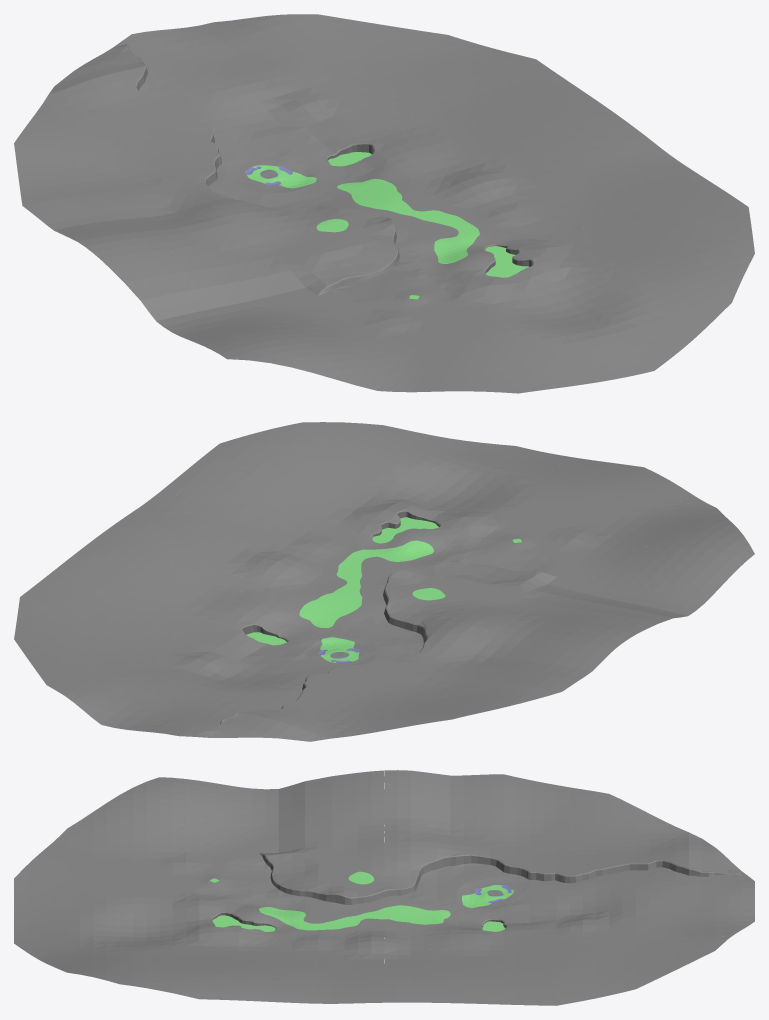
The model's file is glf_course_fc8.kcl.glb.
The picture shows the model from 3 angles, top to bottom: view 1: azimuth 30°, elevation 25°; view 2: azimuth 150°, elevation 25°; view 3: azimuth 270°, elevation 25°; orthographic projection. The views are drawn at different scales.
Visible parts, largest first — view 1: collision_0x0004, collision_0x0002, collision_0x0001, collision_0x000c, collision_0x0007; view 2: collision_0x0004, collision_0x0002, collision_0x0001, collision_0x000c, collision_0x0007; view 3: collision_0x0004, collision_0x0002, collision_0x000c, collision_0x0001, collision_0x0007.
Boxes of the visible parts, bbox=[...] form: collision_0x0004: bbox=[14, 14, 754, 393]; collision_0x0002: bbox=[225, 158, 512, 315]; collision_0x0001: bbox=[247, 165, 479, 299]; collision_0x000c: bbox=[126, 44, 533, 295]; collision_0x0007: bbox=[328, 152, 529, 277]; collision_0x0004: bbox=[14, 422, 754, 741]; collision_0x0002: bbox=[275, 525, 557, 667]; collision_0x0001: bbox=[299, 538, 521, 662]; collision_0x000c: bbox=[197, 510, 556, 734]; collision_0x0007: bbox=[246, 517, 438, 645]; collision_0x0004: bbox=[14, 770, 754, 1005]; collision_0x0002: bbox=[185, 868, 522, 937]; collision_0x000c: bbox=[211, 853, 741, 930]; collision_0x0001: bbox=[210, 871, 513, 930]; collision_0x0007: bbox=[212, 915, 505, 931].
Bounding box in the file's own units: 8000 × 605 × 11200.
